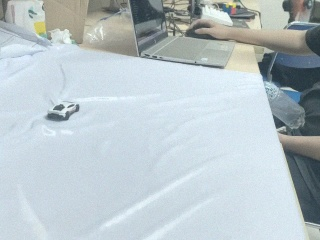box: (39, 1, 92, 44)
mouse: (185, 24, 216, 40)
toy_car: (47, 101, 79, 121)
